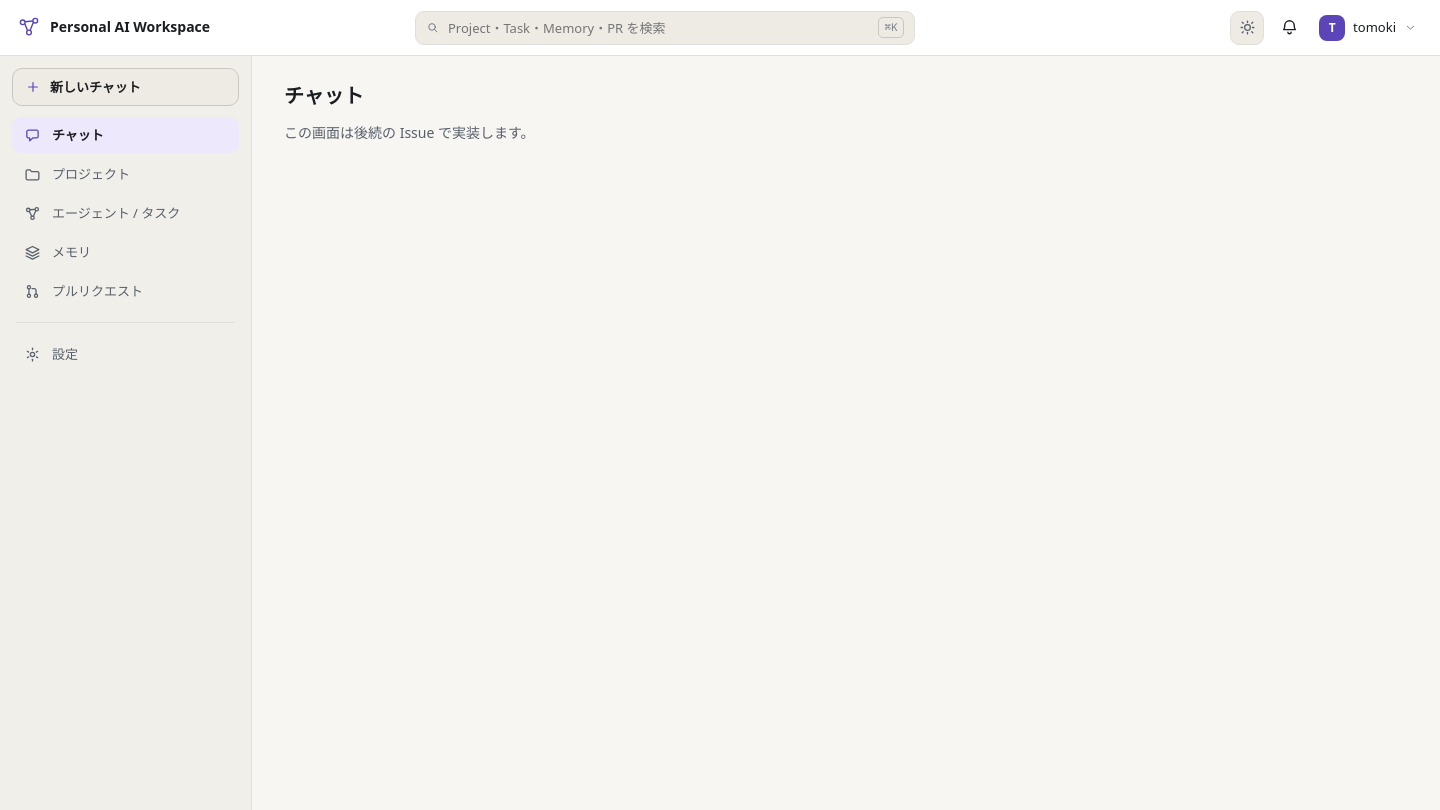
Test: signing out › stays signed in and says so when the server could not be told
The image size is (1440, 810).
Click the button with aria-label "アカウントメニュー". click: (1370, 28)
box: x1=1314 y1=10 x2=1426 y2=44
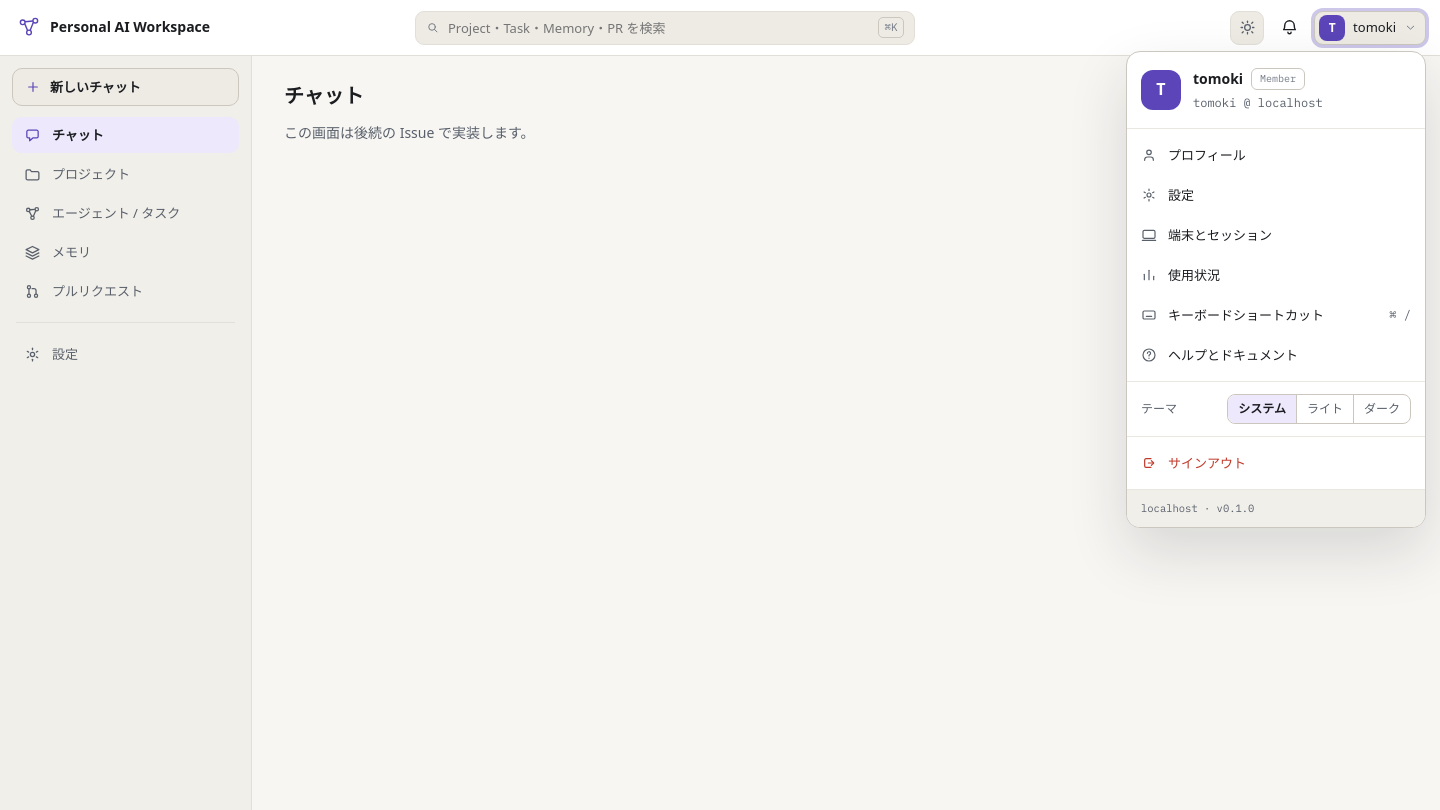
Click the button "サインアウト". click: (1207, 463)
box: x1=1127 y1=443 x2=1425 y2=483
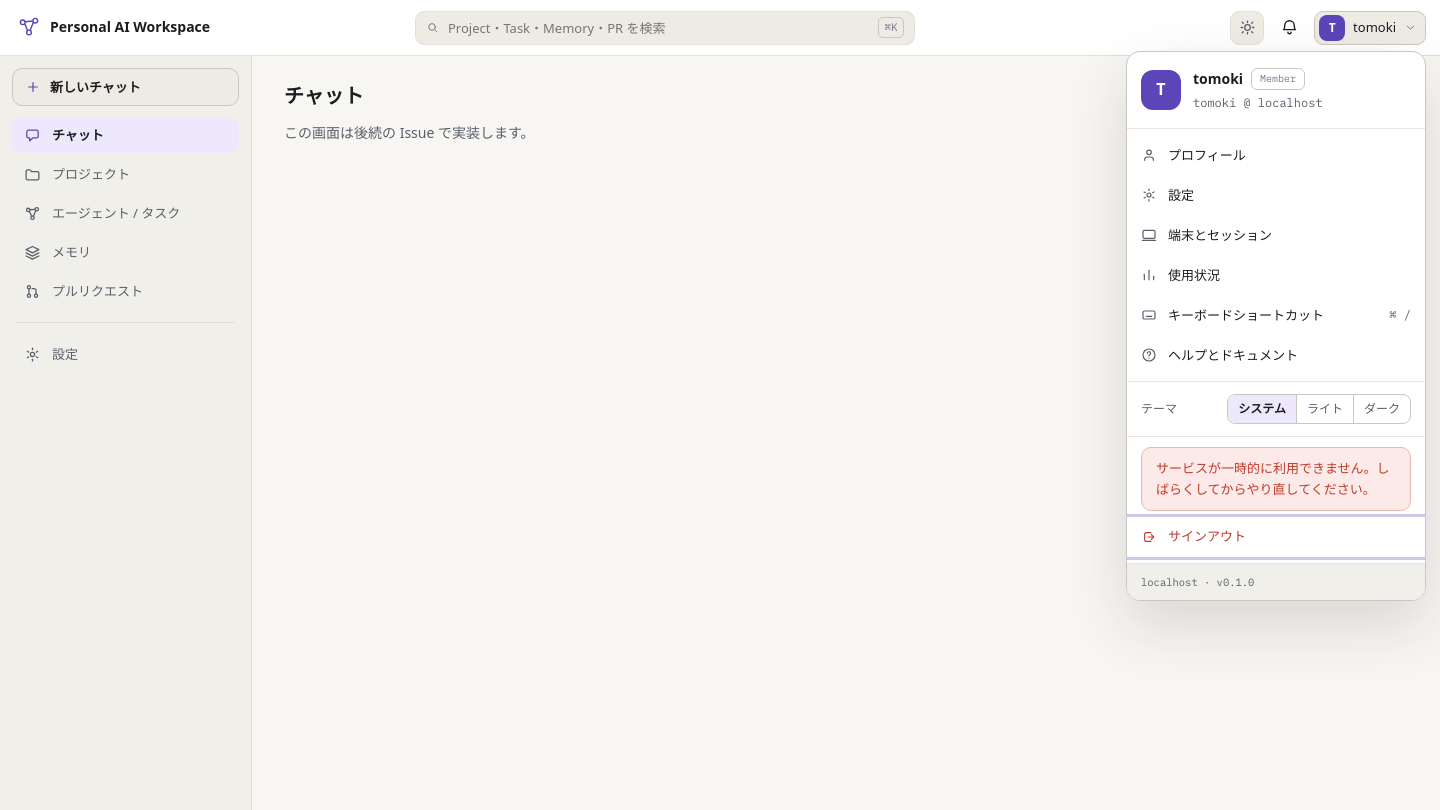
Check: the navigation bar named "メインナビゲーション" is shown, box x1=0 y1=56 x2=252 y2=809
Check: the message shows "一時的に利用できません", box x1=1156 y1=459 x2=1390 y2=498
